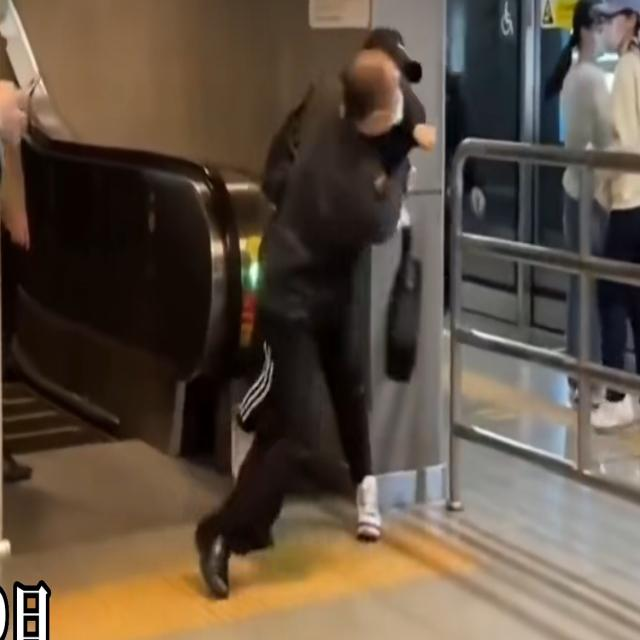fight: (279, 14, 444, 298)
nofight: (579, 0, 639, 439)
